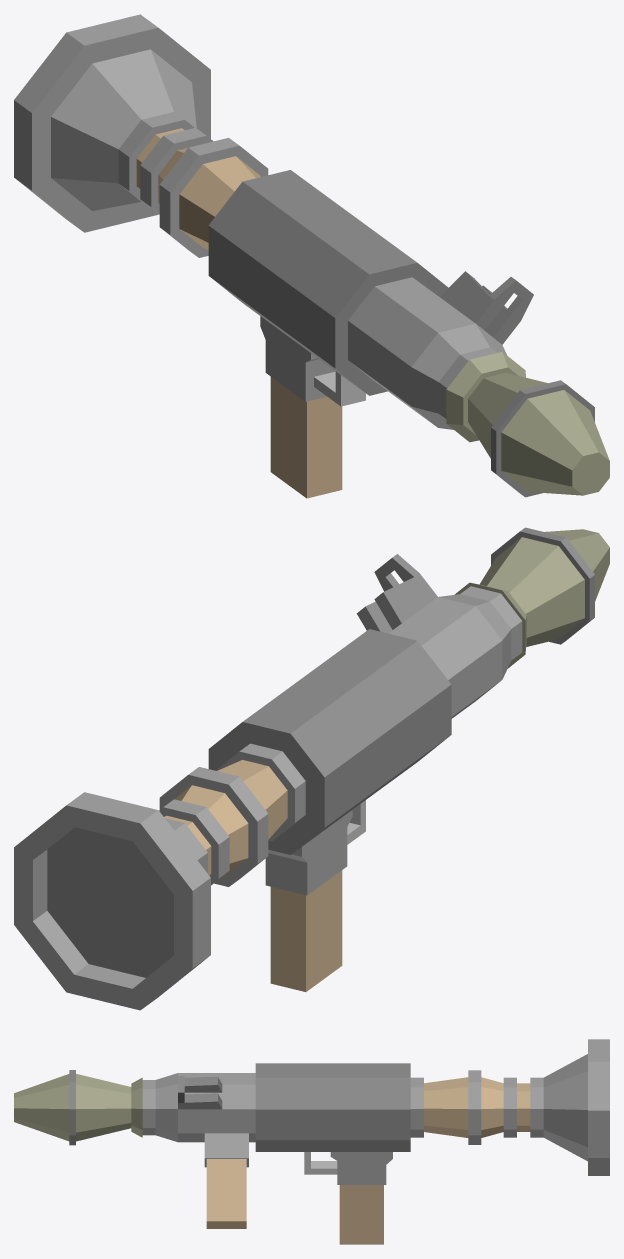
Rendered from RocketLauncher.glb.
3 views of the same model, one above another, from view 1: azimuth 30°, elevation 25°; view 2: azimuth 150°, elevation 25°; view 3: azimuth 270°, elevation 25° (orthographic). The views are drawn at different scales.
Parts seen in each view (by area): view 1: rocketlauncherSide; view 2: rocketlauncherSide; view 3: rocketlauncherSide.
Boxes of the visible parts, box(x1,y1,x2,y2) form: rocketlauncherSide: box(14, 14, 609, 498); rocketlauncherSide: box(14, 527, 609, 1010); rocketlauncherSide: box(14, 1039, 609, 1244).
Size of the model in its own units: 0.4076 by 0.5326 by 1.52.
